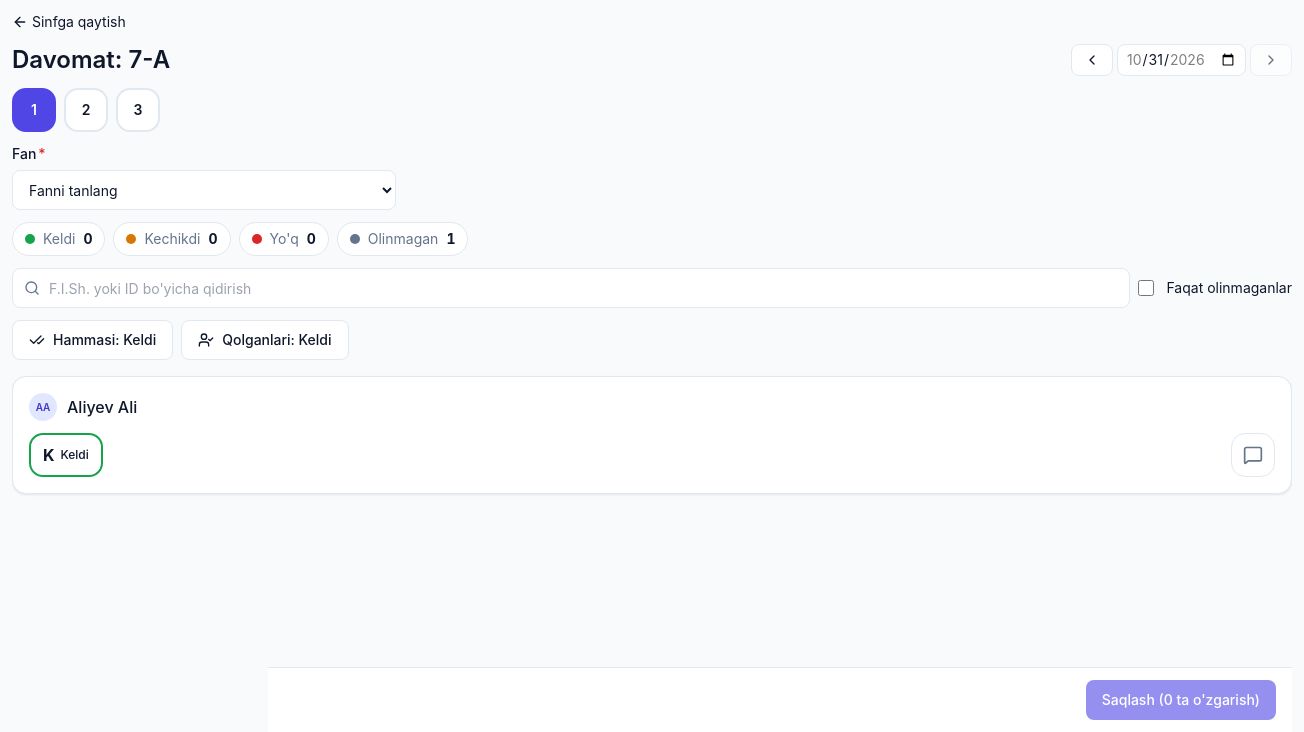
AttendanceView: dars fani › dars rejimida Fan select ko`rinadi, variantlar serverdan; tanlanmaguncha saqlab bo`lmaydi
Expected: the element with test id "subject-field" is shown, [12, 144, 396, 210]
What coordinates should you click on to do the following:
click the radio button labelled "K Keldi"
I would click on:
 (66, 455)
Its box is [29, 433, 103, 477].
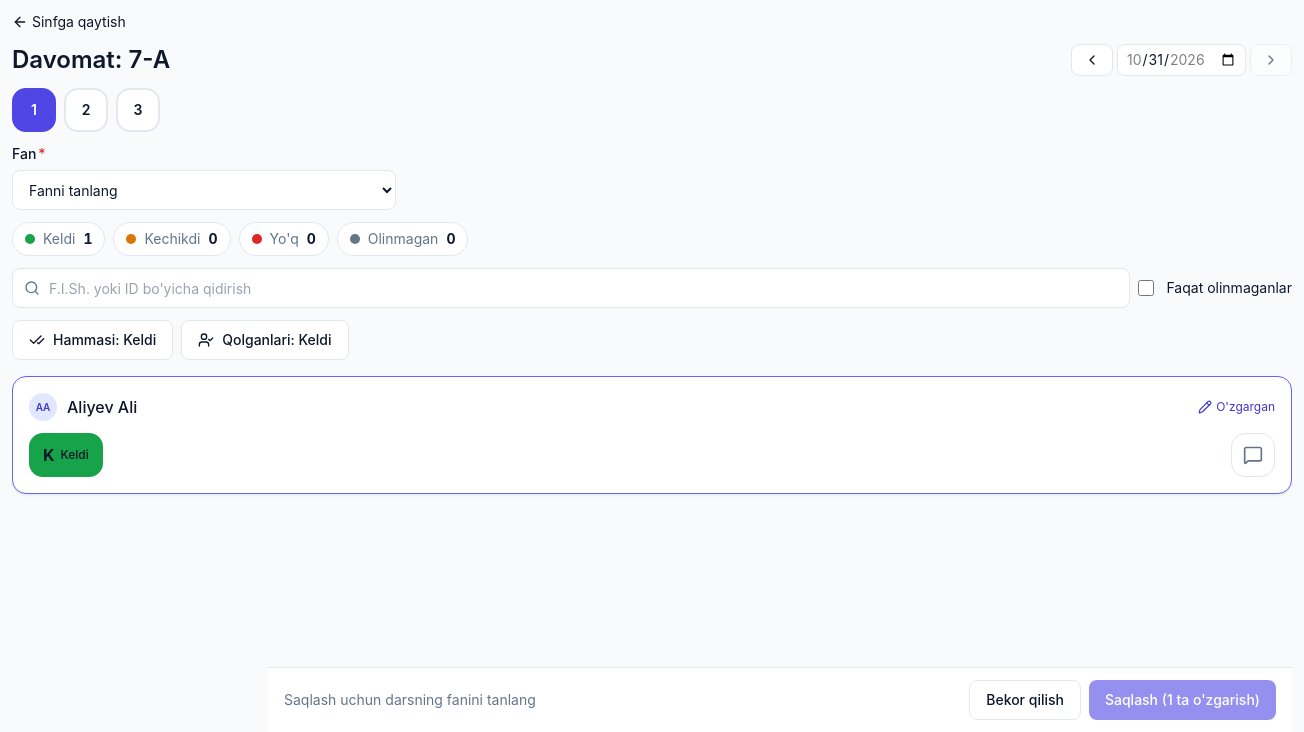
Result: the text "Saqlash uchun darsning fanini tanlang" is shown at [284, 690, 536, 710]
